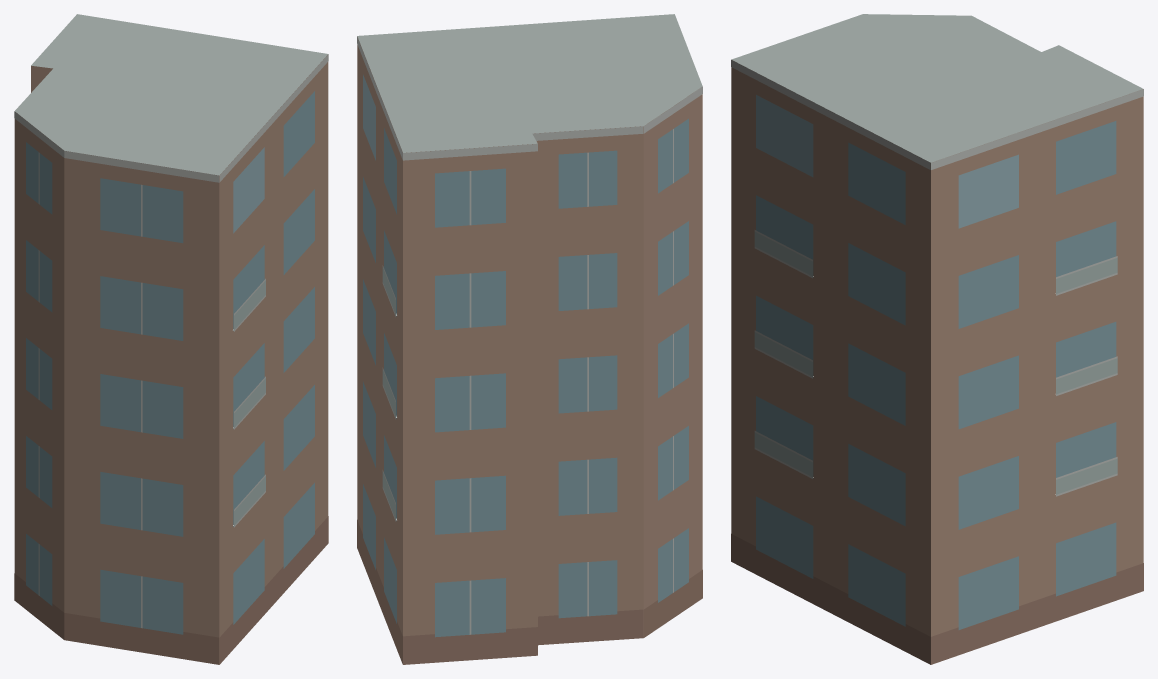
The model's file is survey-upis-33020856.glb.
The picture shows the model from 3 angles, left to right: view 1: azimuth 30°, elevation 25°; view 2: azimuth 150°, elevation 25°; view 3: azimuth 270°, elevation 25°; orthographic projection. The views are drawn at different scales.
Parts seen in each view (by area): view 1: survey-upis-33020856.tmp; view 2: survey-upis-33020856.tmp; view 3: survey-upis-33020856.tmp.
Part boxes in pixels (bbox=[...]): survey-upis-33020856.tmp: bbox=[14, 14, 328, 664]; survey-upis-33020856.tmp: bbox=[357, 14, 702, 664]; survey-upis-33020856.tmp: bbox=[731, 14, 1143, 664].
Bounding box in the file's own units: 10.43 × 16.4 × 12.22.
